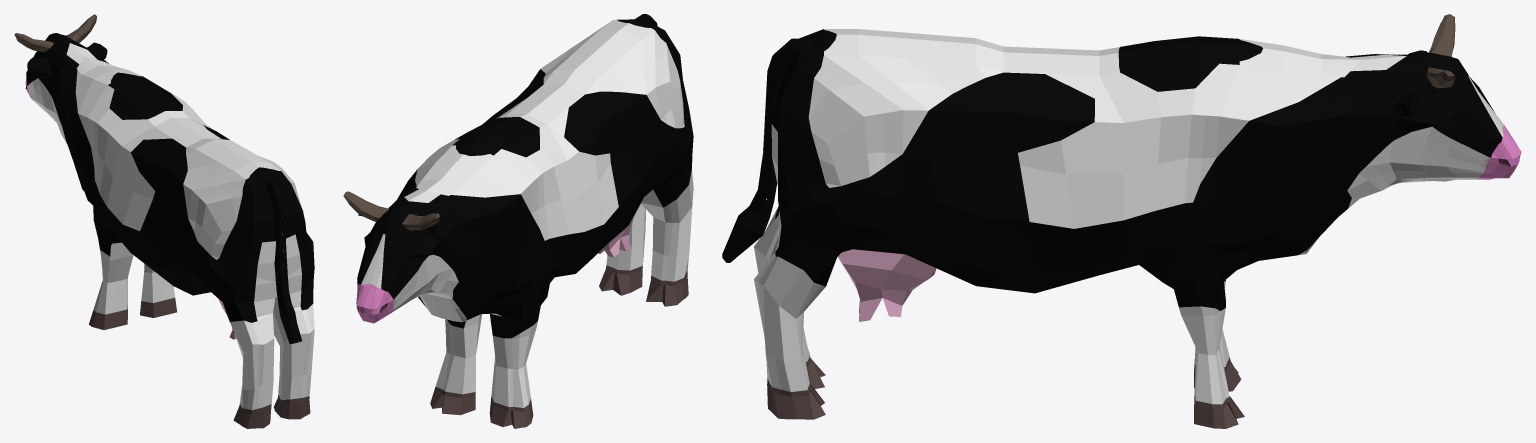
The model's file is cow.glb.
The picture shows the model from 3 angles, left to right: view 1: azimuth 30°, elevation 25°; view 2: azimuth 150°, elevation 25°; view 3: azimuth 270°, elevation 25°; orthographic projection. The views are drawn at different scales.
Parts seen in each view (by area): view 1: Cube_0; view 2: Cube_0; view 3: Cube_0.
Part boxes in pixels (bbox=[...]): Cube_0: bbox=[14, 14, 314, 428]; Cube_0: bbox=[343, 14, 693, 428]; Cube_0: bbox=[722, 14, 1521, 428].
Size of the model in its own units: 2.35 by 4.75 by 9.4.
